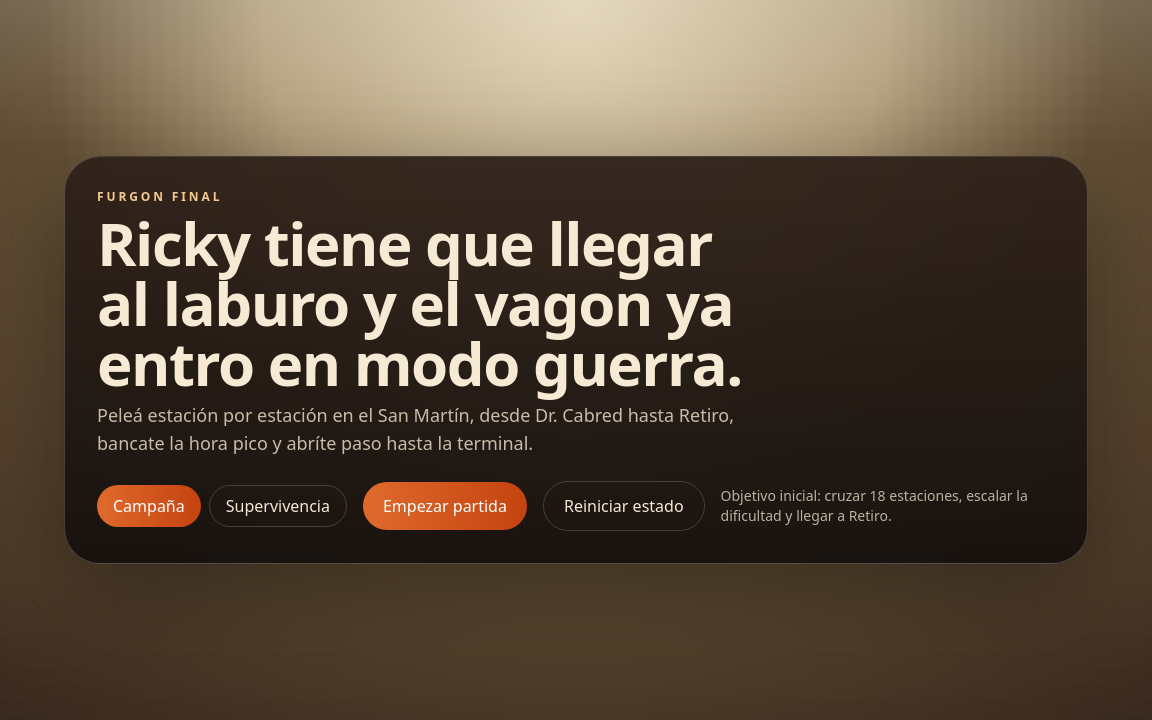
Scenario: GameShell › shows the title overlay and starts the game from the button
Step 1. Click the button "Empezar partida" → (445, 506), box [363, 482, 527, 530]
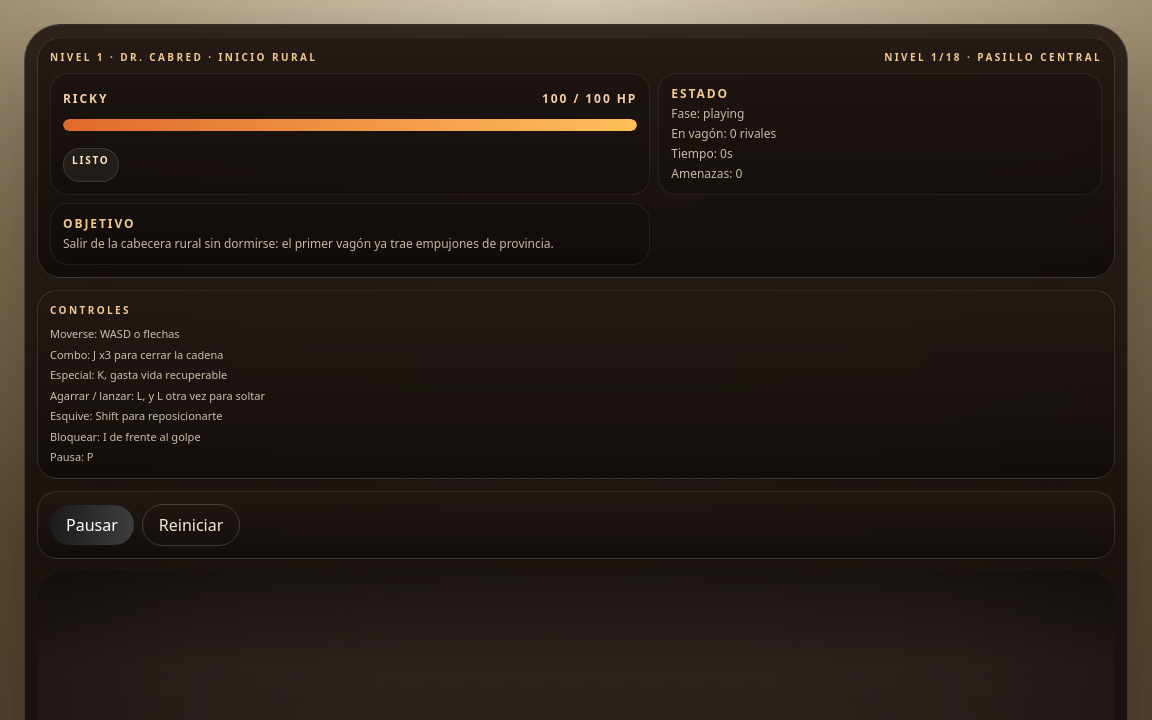
Result: the text "Fase: playing" is shown at [671, 105, 744, 122]
Result: the text "En vagón: 0 rivales" is shown at [671, 125, 776, 142]
